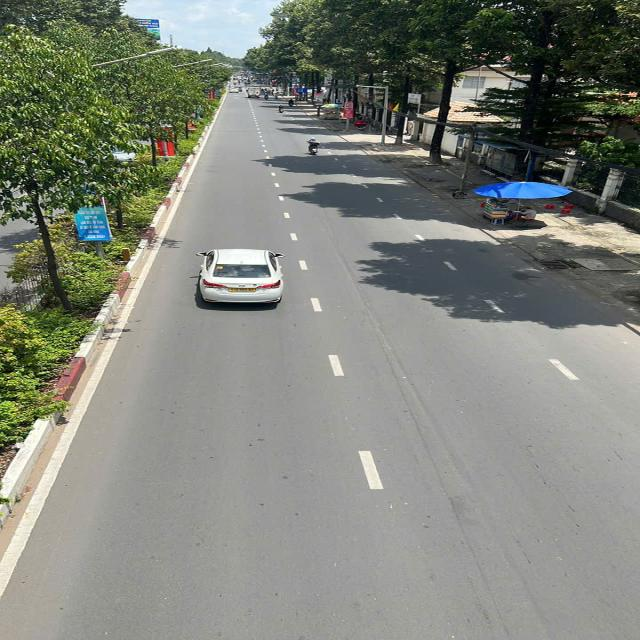ben: (245, 84, 262, 100)
car: (194, 246, 291, 310), (225, 85, 243, 95)
motobyte: (304, 136, 323, 156), (286, 97, 299, 110), (277, 101, 287, 115)
